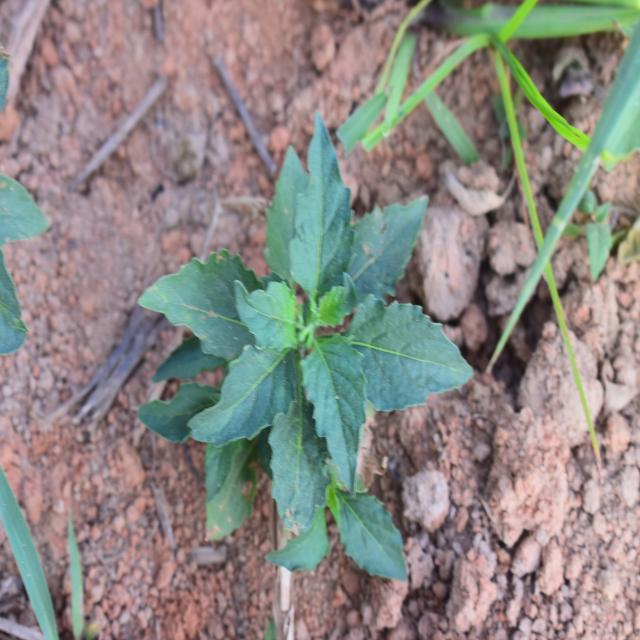Black_nightshade: (152, 142, 453, 534)
